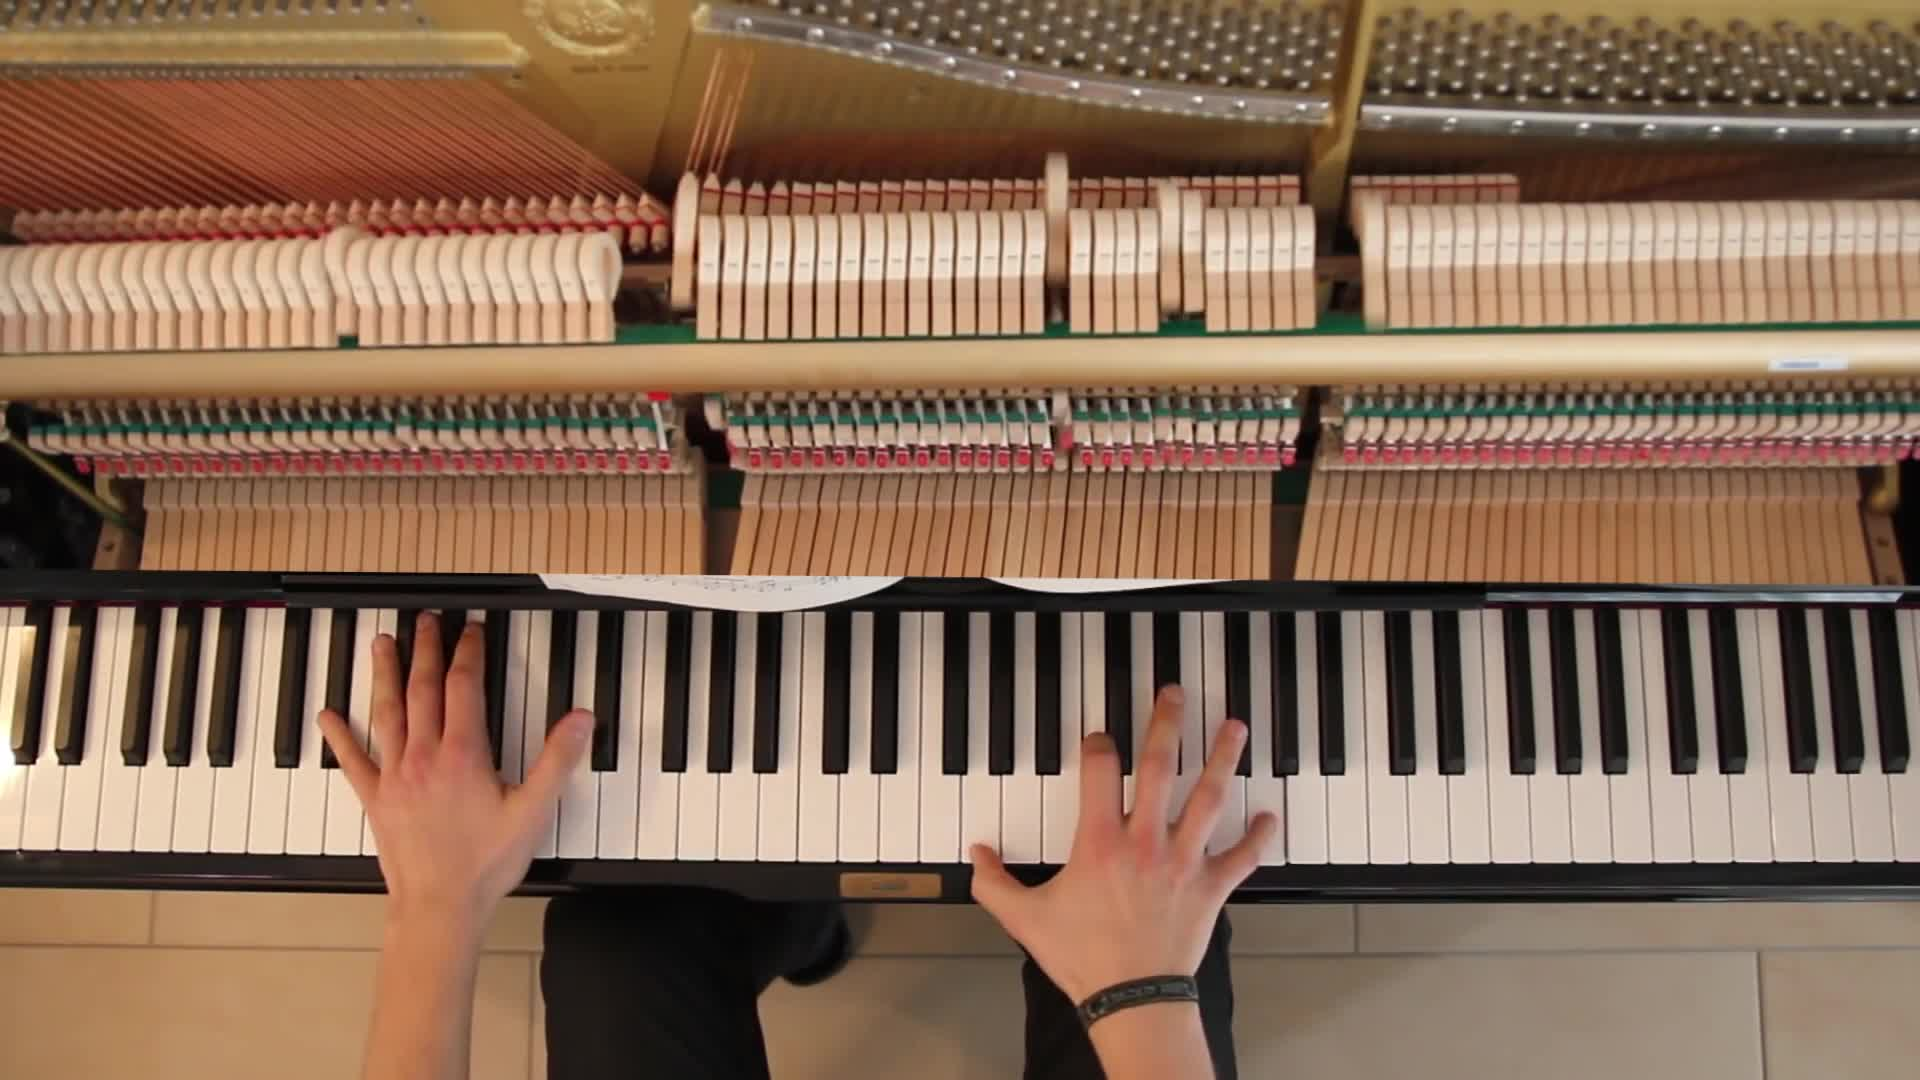left: (316, 607, 589, 907)
right: (971, 684, 1275, 971)
